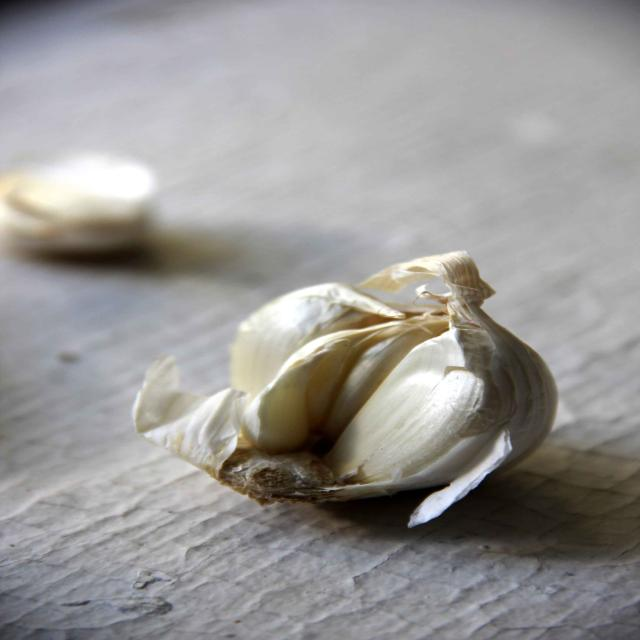garlic: (134, 252, 557, 525), (0, 153, 156, 254)
